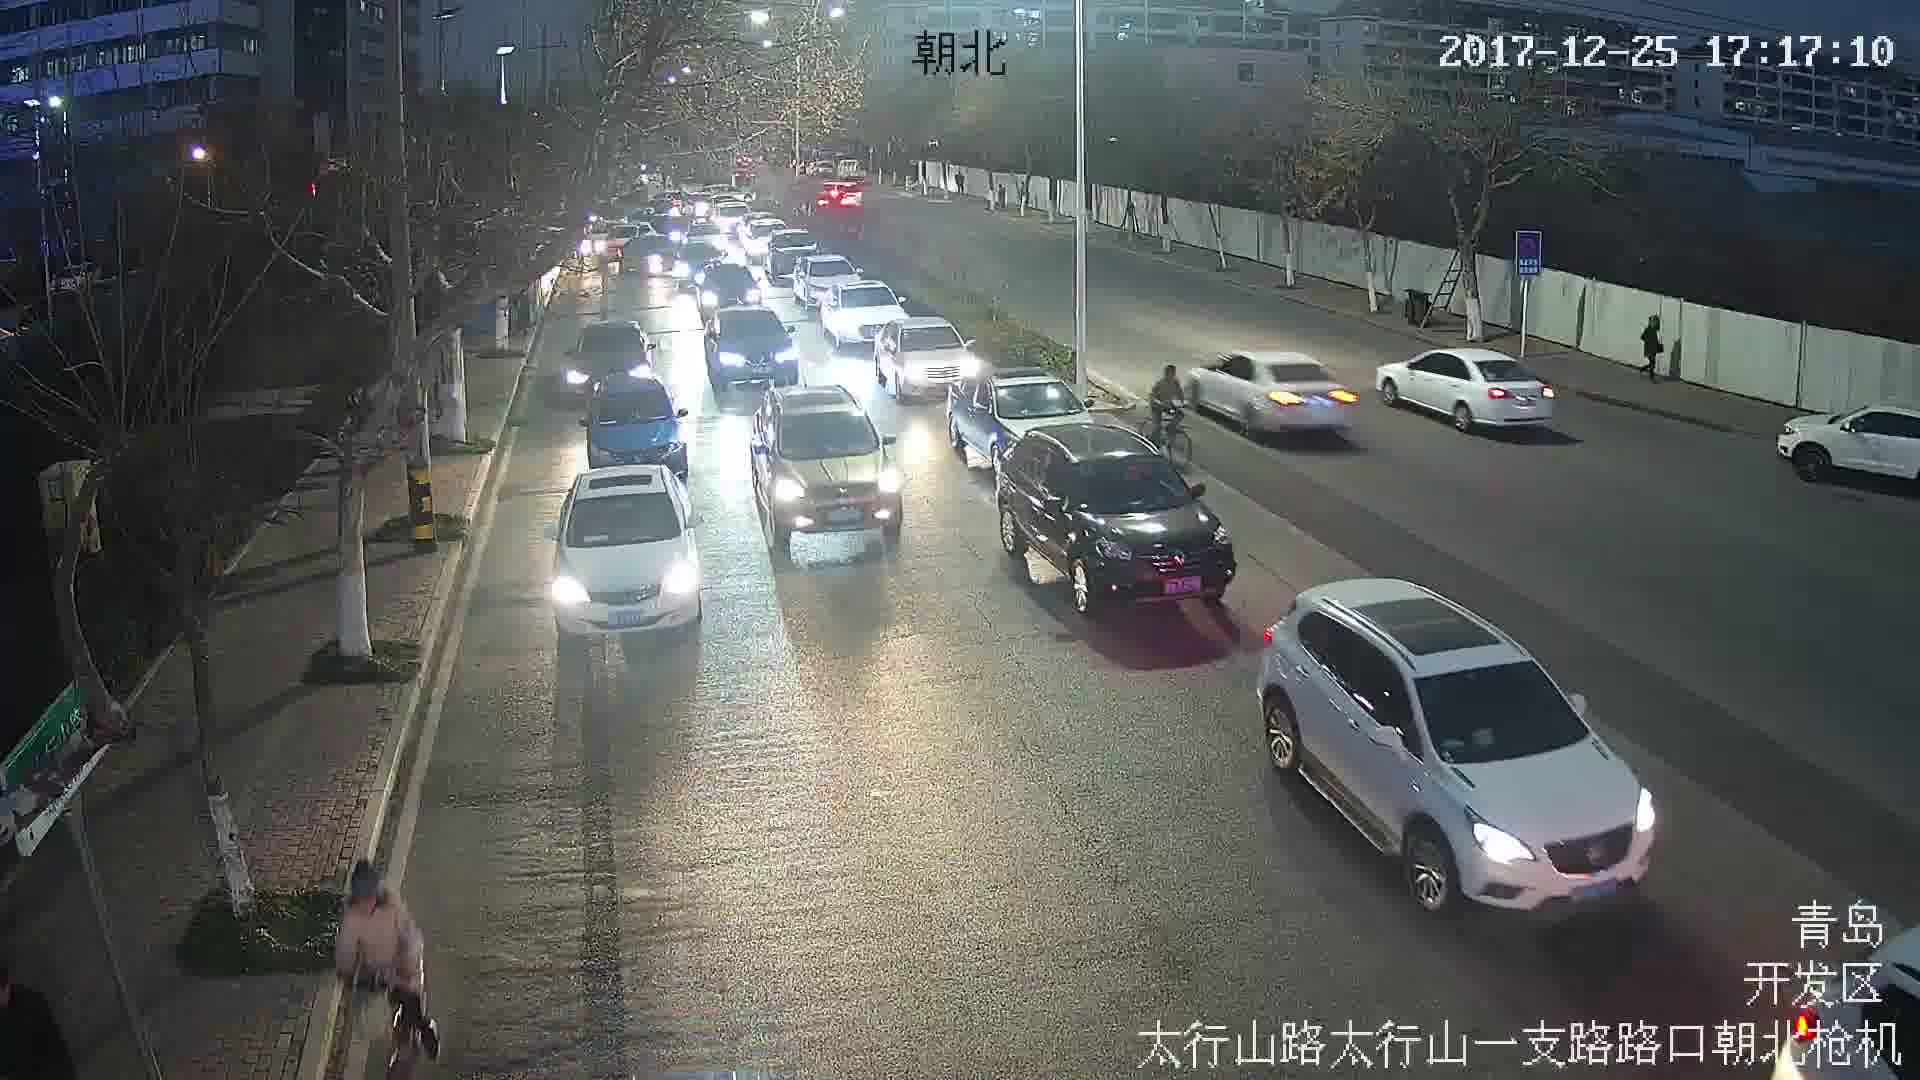car: (1250, 572, 1619, 904), (993, 430, 1239, 606), (549, 469, 703, 625), (757, 389, 903, 539), (1185, 348, 1363, 445), (1374, 344, 1562, 432), (582, 378, 687, 475), (873, 319, 978, 396), (703, 309, 796, 387)
person: (332, 869, 438, 1050), (1146, 362, 1191, 438), (1643, 310, 1660, 375)
